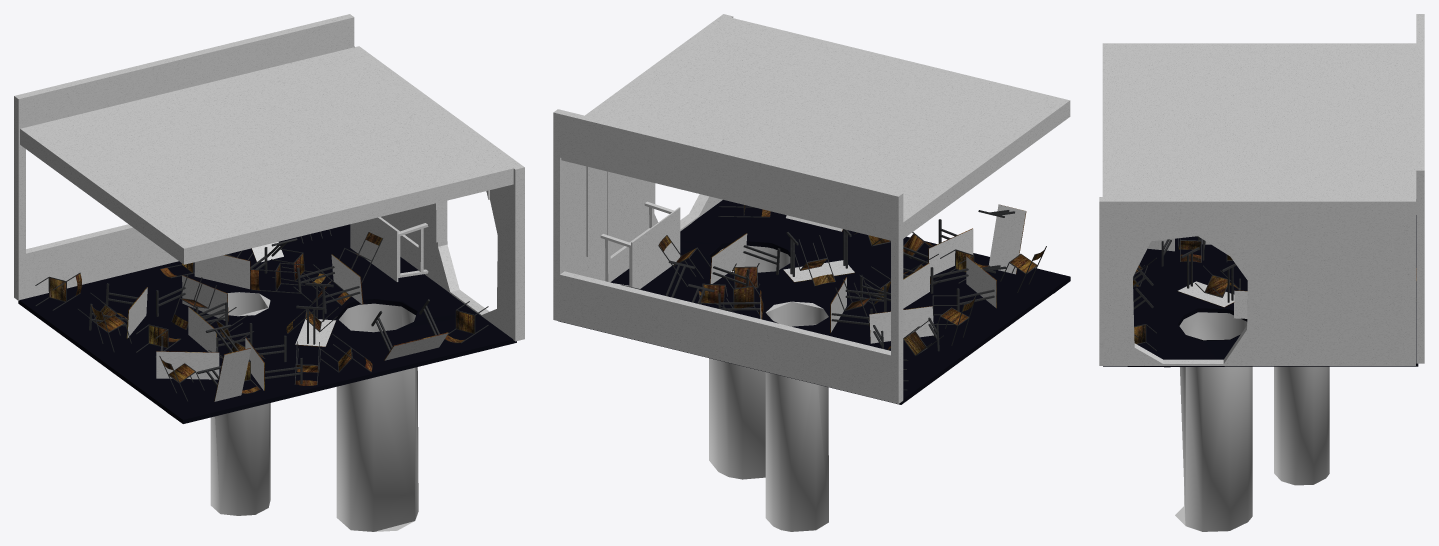
The model's file is salle_classe_bas04.obj.
The picture shows the model from 3 angles, left to right: view 1: azimuth 30°, elevation 25°; view 2: azimuth 150°, elevation 25°; view 3: azimuth 270°, elevation 25°; orthographic projection. The views are drawn at different scales.
Visible parts, largest first — view 1: plafond_couloir_classe_bas.004; view 2: plafond_couloir_classe_bas.004; view 3: plafond_couloir_classe_bas.004.
Part boxes in pixels (x1=…): plafond_couloir_classe_bas.004: x1=14, y1=14, x2=524, y2=531; plafond_couloir_classe_bas.004: x1=553, y1=14, x2=1070, y2=531; plafond_couloir_classe_bas.004: x1=1099, y1=14, x2=1424, y2=531.
Bounding box in the file's own units: 18.09 × 20.35 × 15.66.
Materials: 5 (3 with a texture image).
